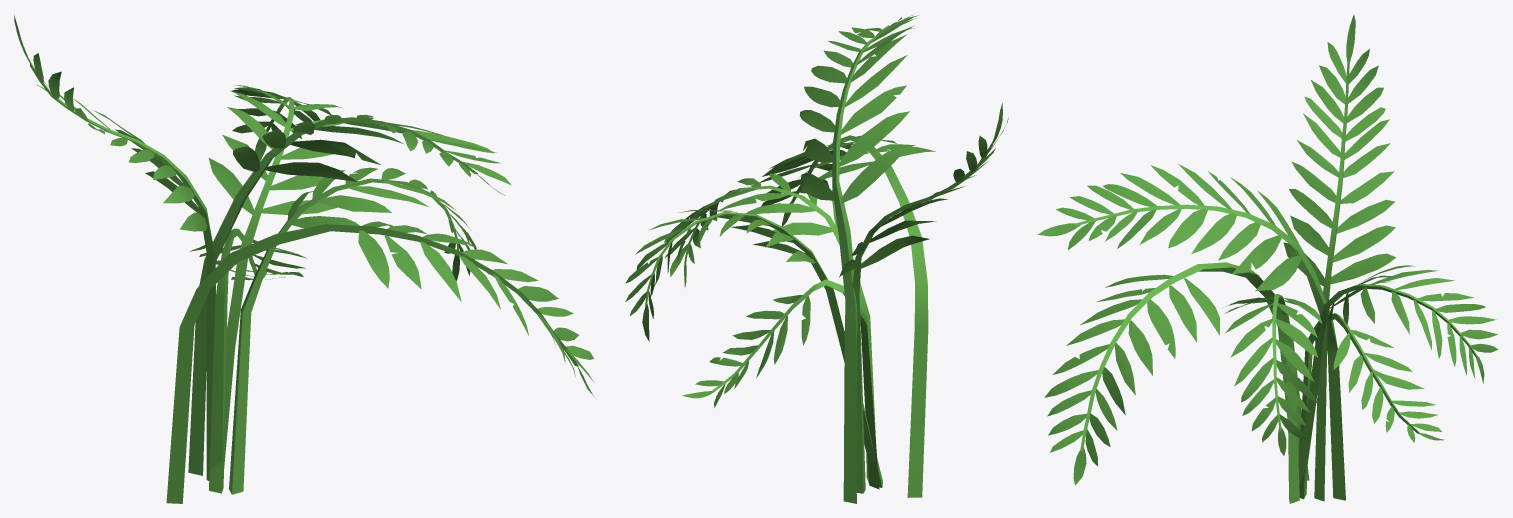
Rendered from plant_ash_B.fbx.
3 views of the same model, side by side, from view 1: azimuth 30°, elevation 25°; view 2: azimuth 150°, elevation 25°; view 3: azimuth 270°, elevation 25° (orthographic). The views are drawn at different scales.
Visible parts, largest first — view 1: plant_ash_B_branch_A, plant_ash_B_branch_B, plant_ash_B_branch_F, plant_ash_B_branch_C, plant_ash_B_branch_D, plant_ash_B_branch_E; view 2: plant_ash_B_branch_B, plant_ash_B_branch_A, plant_ash_B_branch_F, plant_ash_B_branch_E, plant_ash_B_branch_D, plant_ash_B_branch_C; view 3: plant_ash_B_branch_D, plant_ash_B_branch_B, plant_ash_B_branch_A, plant_ash_B_branch_C, plant_ash_B_branch_F, plant_ash_B_branch_E.
Boxes of the visible parts, <box> form: plant_ash_B_branch_A: <box>166,221,594,503</box>; plant_ash_B_branch_B: <box>188,114,511,475</box>; plant_ash_B_branch_F: <box>208,85,346,493</box>; plant_ash_B_branch_C: <box>229,167,476,494</box>; plant_ash_B_branch_D: <box>14,14,215,480</box>; plant_ash_B_branch_E: <box>189,228,306,491</box>; plant_ash_B_branch_B: <box>799,15,918,503</box>; plant_ash_B_branch_A: <box>759,135,935,497</box>; plant_ash_B_branch_F: <box>625,210,882,487</box>; plant_ash_B_branch_E: <box>682,279,879,489</box>; plant_ash_B_branch_D: <box>839,103,1008,493</box>; plant_ash_B_branch_C: <box>664,173,875,482</box>; plant_ash_B_branch_D: <box>1283,14,1396,501</box>; plant_ash_B_branch_B: <box>1037,164,1345,500</box>; plant_ash_B_branch_A: <box>1044,262,1309,485</box>; plant_ash_B_branch_C: <box>1223,294,1322,503</box>; plant_ash_B_branch_F: <box>1298,265,1498,482</box>; plant_ash_B_branch_E: <box>1299,313,1444,499</box>.
Bounding box in the file's own units: 137 × 153 × 155.
